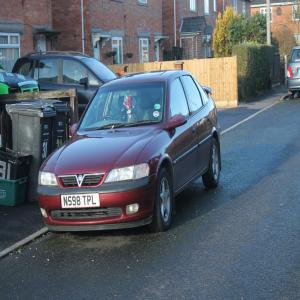Vehicle-registration-plate: (65, 193, 101, 216), (297, 67, 300, 77)
